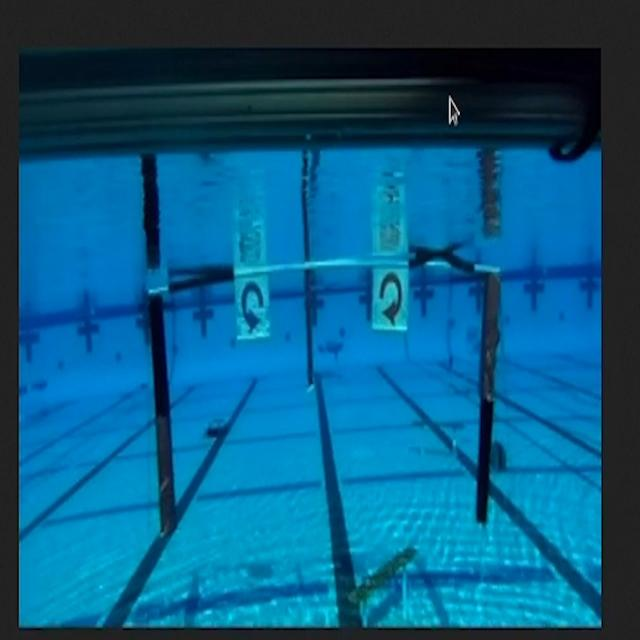Gate: (141, 253, 505, 552)
